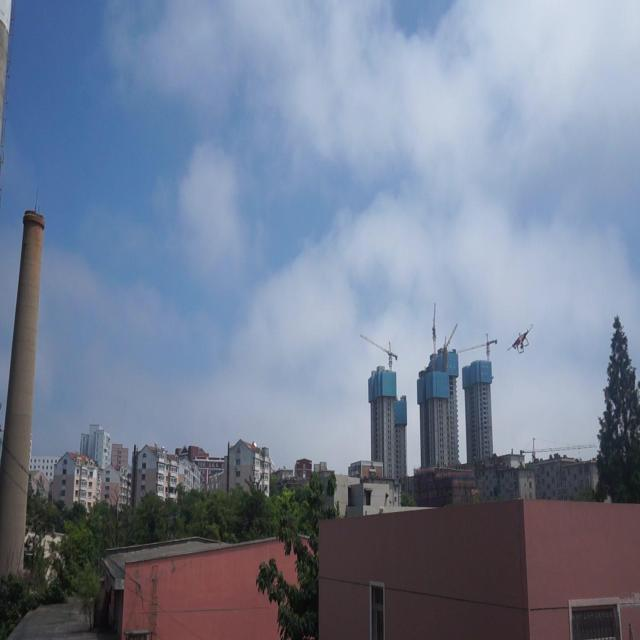drone: (505, 324, 535, 356)
